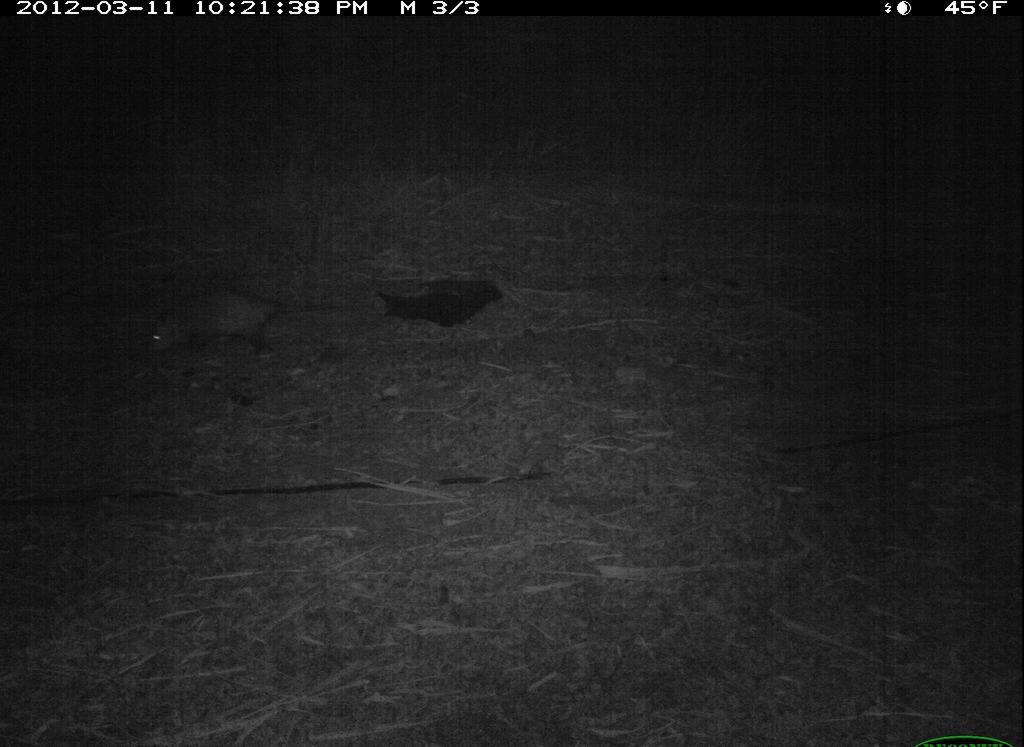opossum: (114, 265, 361, 368)
